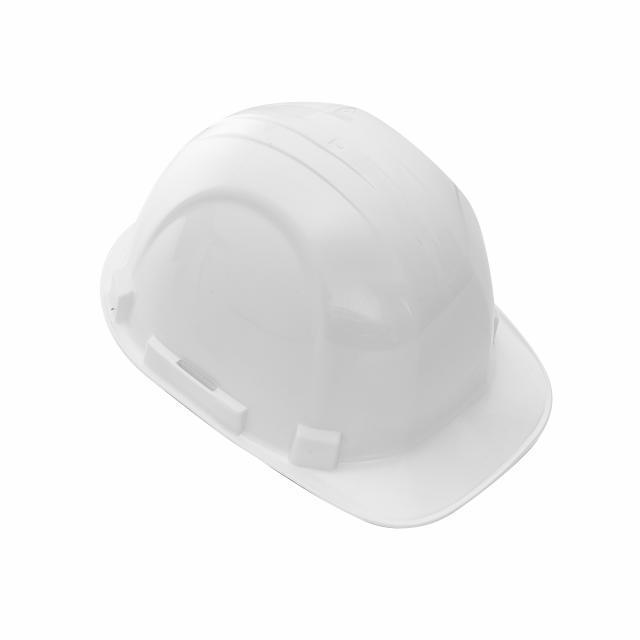safety_helmet: (96, 100, 555, 533)
